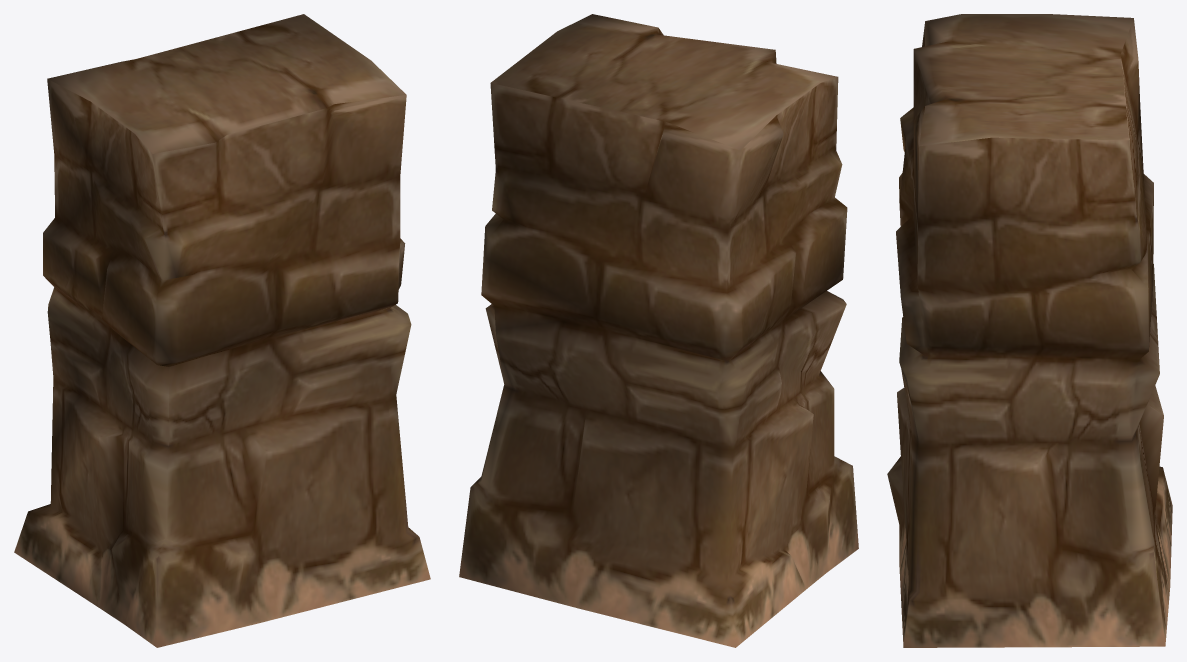
File: FB5_shiduizhu_1.FBX
The picture shows the model from 3 angles, left to right: view 1: azimuth 30°, elevation 25°; view 2: azimuth 150°, elevation 25°; view 3: azimuth 270°, elevation 25°; orthographic projection. The views are drawn at different scales.
Parts seen in each view (by area): view 1: FB5_shiduizhu_1; view 2: FB5_shiduizhu_1; view 3: FB5_shiduizhu_1.
Boxes of the visible parts, <box> form: FB5_shiduizhu_1: <box>14,14,430,647</box>; FB5_shiduizhu_1: <box>459,14,858,647</box>; FB5_shiduizhu_1: <box>887,14,1172,647</box>.
Size of the model in its own units: 12779 by 20959 by 10794.
1 material, 1 textured.
